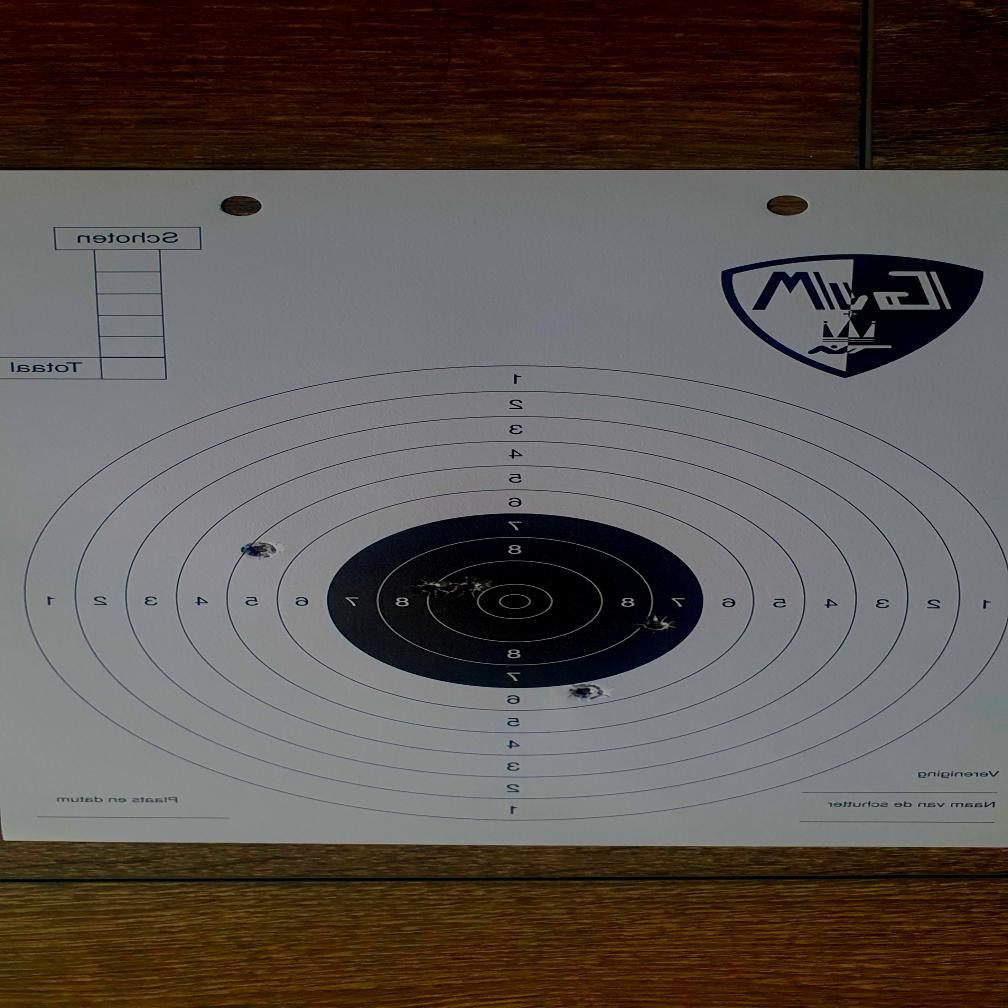5: (232, 539, 280, 561)
6: (564, 682, 609, 702)
8: (632, 613, 676, 634)
9: (452, 576, 494, 598), (408, 578, 448, 596)
Target: (24, 362, 1008, 823)
black_contour: (329, 514, 704, 689)
